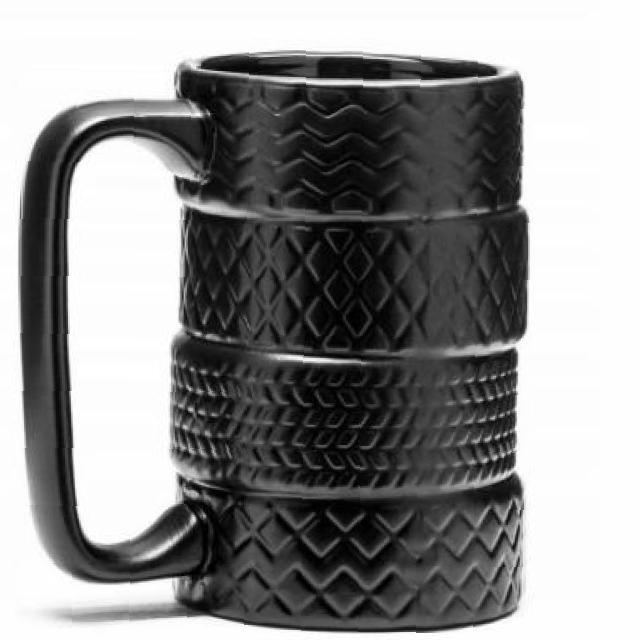cup: (14, 36, 536, 634)
